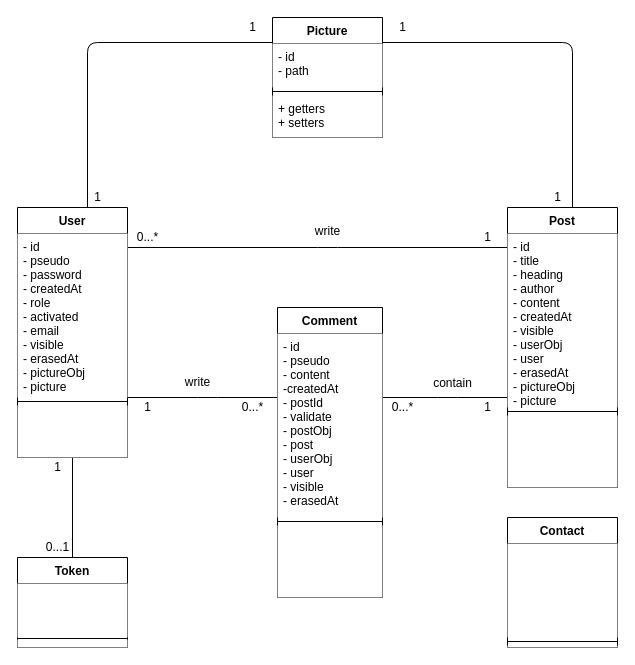
Some shapes in this 635 by 665 pixel diagram are drawn without their labels. Here are the shapes that lost their labels. From the top down, the centre of each, then its label:
the point at 72,431: + getters + setters + getPicture
the point at 562,451: + getters + setters + getUser + getPicture
the point at 329,561: + getters + setters + getUser + getPost
the point at 72,610: - token - createdAt - user_id
the point at 562,590: - id - name - email - phone - message - createdAt
